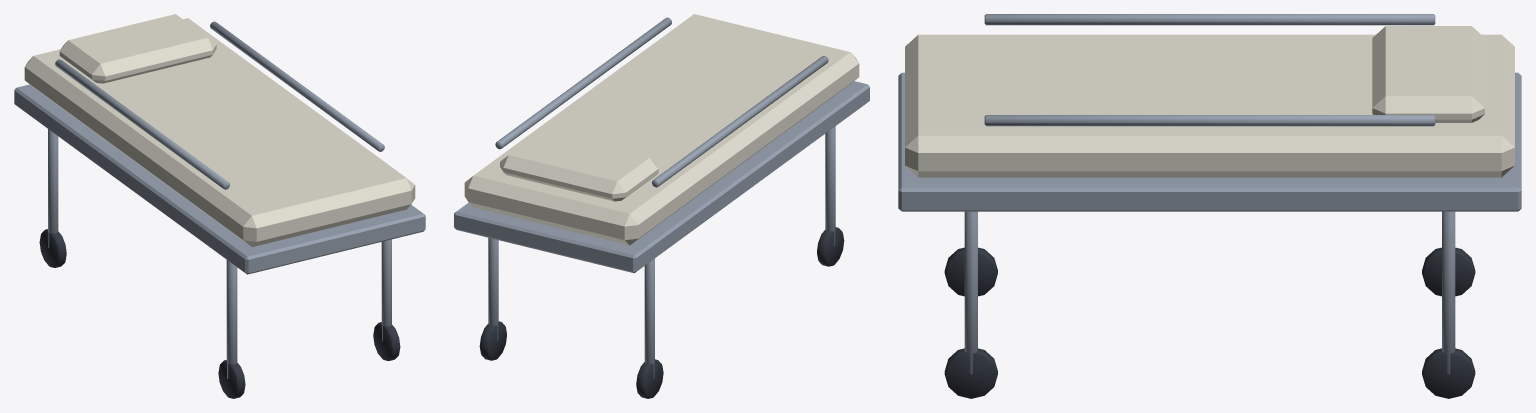
Rendered from hospital_gurney.obj.
3 renders of one model, left to right at view 1: azimuth 30°, elevation 25°; view 2: azimuth 150°, elevation 25°; view 3: azimuth 270°, elevation 25°, orthographic. The views are drawn at different scales.
Parts seen in each view (by area): view 1: Mattress, BedFrame, Pillow, Rail_-0.36, Rail_0.36, Leg_-0.36_-1.22, Leg_-0.36_0.21999999999999997, Leg_0.36_-1.22, Wheel_-0.36_0.21999999999999997, Wheel_-0.36_-1.22, Wheel_0.36_-1.22; view 2: Mattress, BedFrame, Pillow, Rail_-0.36, Rail_0.36, Leg_-0.36_-1.22, Leg_-0.36_0.21999999999999997, Leg_0.36_0.21999999999999997, Wheel_-0.36_-1.22, Wheel_-0.36_0.21999999999999997, Wheel_0.36_0.21999999999999997; view 3: Mattress, BedFrame, Pillow, Rail_-0.36, Rail_0.36, Leg_0.36_-1.22, Leg_0.36_0.21999999999999997, Wheel_0.36_-1.22, Wheel_0.36_0.21999999999999997, Wheel_-0.36_-1.22, Wheel_-0.36_0.21999999999999997.
Part boxes in pixels (left/top/right/bottom): Mattress: left=24, top=18, right=415, bottom=246; BedFrame: left=14, top=84, right=425, bottom=274; Pillow: left=59, top=14, right=216, bottom=83; Rail_-0.36: left=55, top=59, right=229, bottom=189; Rail_0.36: left=210, top=21, right=384, bottom=151; Leg_-0.36_-1.22: left=226, top=260, right=237, bottom=378; Leg_-0.36_0.21999999999999997: left=48, top=129, right=58, bottom=247; Leg_0.36_-1.22: left=381, top=239, right=391, bottom=341; Wheel_-0.36_0.21999999999999997: left=39, top=229, right=66, bottom=267; Wheel_-0.36_-1.22: left=218, top=360, right=245, bottom=398; Wheel_0.36_-1.22: left=373, top=322, right=400, bottom=360; Mattress: left=464, top=14, right=859, bottom=245; BedFrame: left=454, top=81, right=869, bottom=273; Pillow: left=500, top=131, right=658, bottom=201; Rail_-0.36: left=652, top=55, right=828, bottom=187; Rail_0.36: left=495, top=17, right=671, bottom=149; Leg_-0.36_-1.22: left=825, top=126, right=835, bottom=246; Leg_-0.36_0.21999999999999997: left=644, top=258, right=654, bottom=378; Leg_0.36_0.21999999999999997: left=488, top=238, right=498, bottom=340; Wheel_-0.36_-1.22: left=817, top=227, right=844, bottom=266; Wheel_-0.36_0.21999999999999997: left=636, top=359, right=663, bottom=398; Wheel_0.36_0.21999999999999997: left=479, top=321, right=506, bottom=360; Mattress: left=905, top=34, right=1514, bottom=177; BedFrame: left=898, top=72, right=1521, bottom=211; Pillow: left=1372, top=26, right=1484, bottom=122; Rail_-0.36: left=984, top=14, right=1435, bottom=25; Rail_0.36: left=984, top=115, right=1435, bottom=126; Leg_0.36_-1.22: left=964, top=211, right=977, bottom=374; Leg_0.36_0.21999999999999997: left=1442, top=211, right=1455, bottom=374; Wheel_0.36_-1.22: left=944, top=348, right=997, bottom=398; Wheel_0.36_0.21999999999999997: left=1422, top=348, right=1475, bottom=398; Wheel_-0.36_-1.22: left=944, top=247, right=997, bottom=296; Wheel_-0.36_0.21999999999999997: left=1422, top=247, right=1475, bottom=296.
Bounding box in the file's own units: 0.84 × 0.95 × 1.88.
